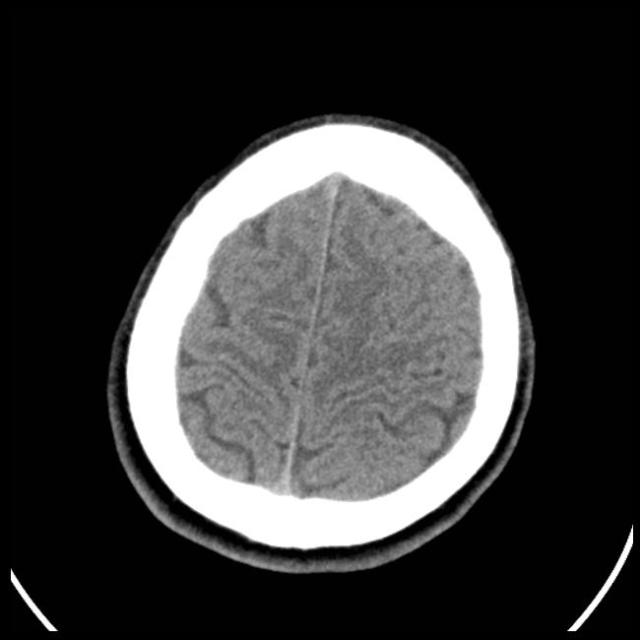lesion: (105, 110, 538, 573)
